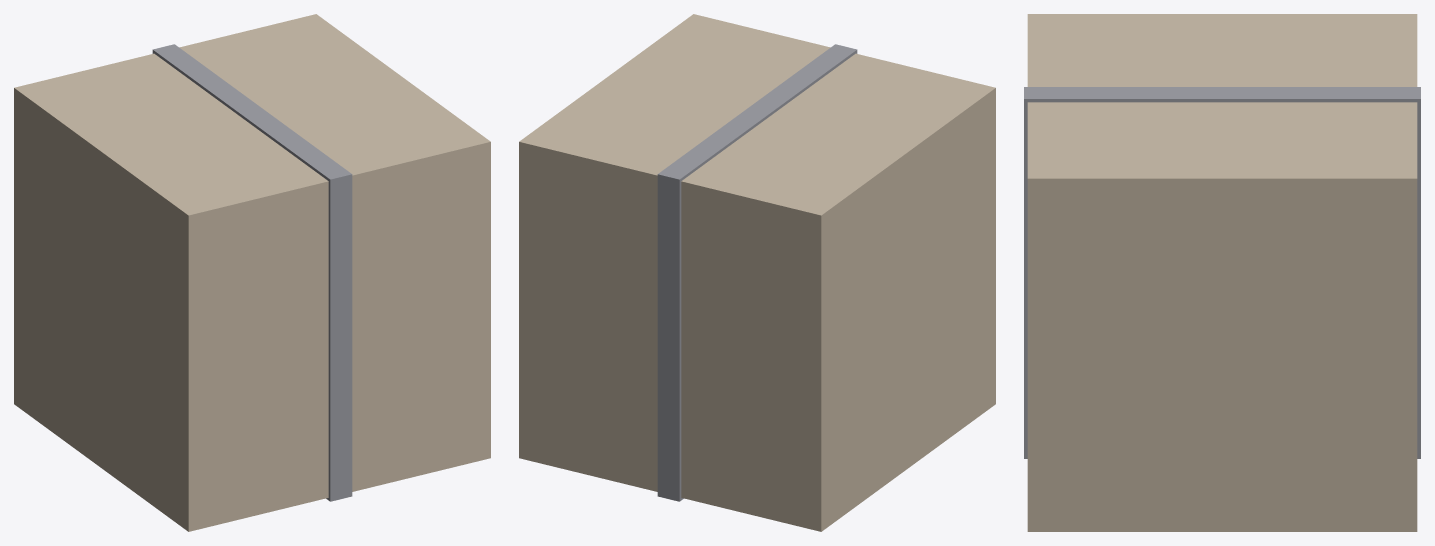
Rendered from crate_01_lo1.glb.
The picture shows the model from 3 angles, left to right: view 1: azimuth 30°, elevation 25°; view 2: azimuth 150°, elevation 25°; view 3: azimuth 270°, elevation 25°; orthographic projection. The views are drawn at different scales.
Parts seen in each view (by area): view 1: crate_01_lo1; view 2: crate_01_lo1; view 3: crate_01_lo1.
Part boxes in pixels (x1,y1,x2,y2): crate_01_lo1: (14,14,490,531); crate_01_lo1: (519,14,995,531); crate_01_lo1: (1024,14,1420,531).
Bounding box in the file's own units: 0.55 × 0.56 × 0.56.
